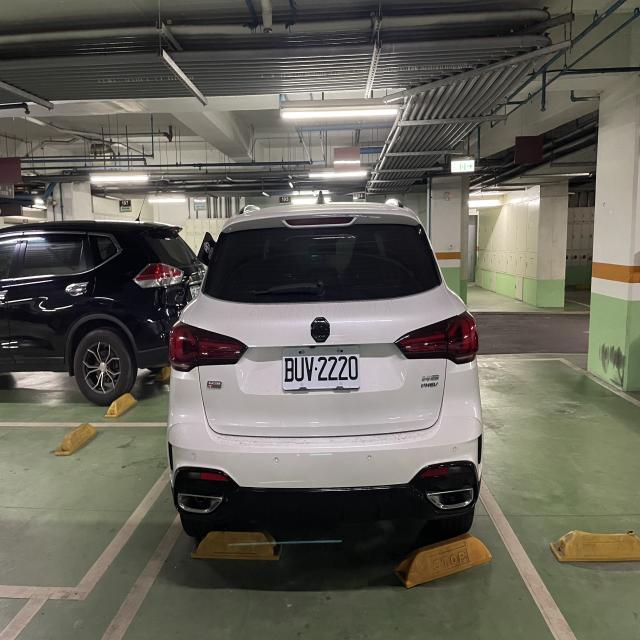license-plate: (279, 344, 362, 391)
